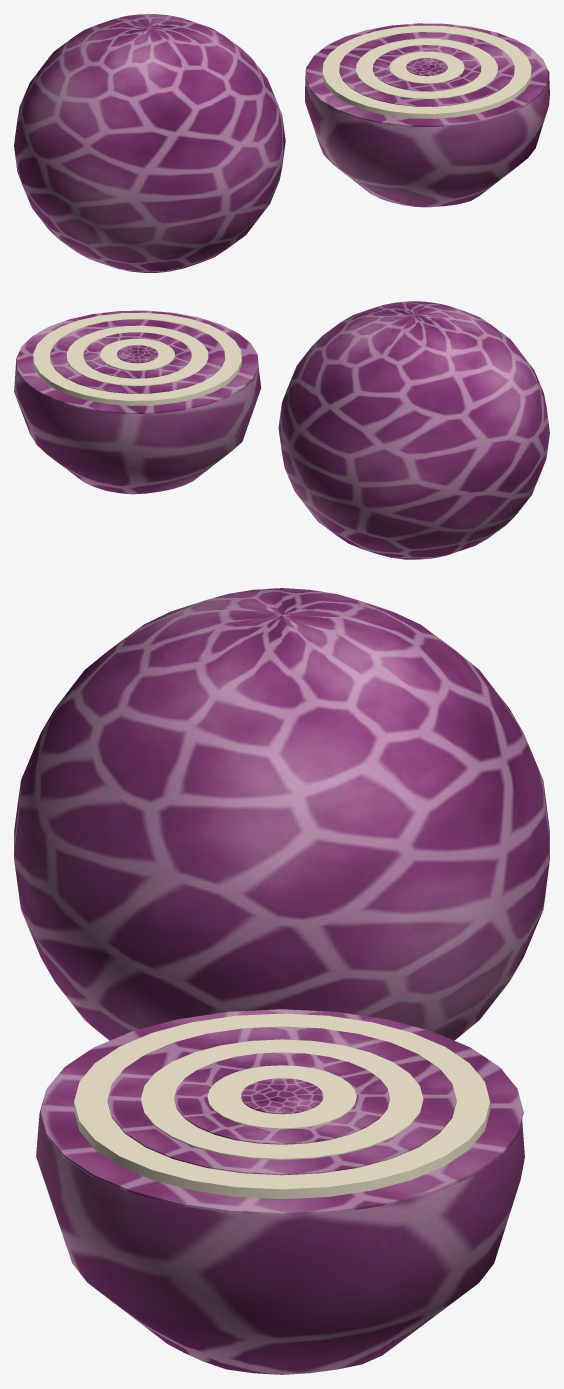
The model's file is veg_cabbage_red_halved.glb.
3 views of the same model, one above another, from view 1: azimuth 30°, elevation 25°; view 2: azimuth 150°, elevation 25°; view 3: azimuth 270°, elevation 25° (orthographic). The views are drawn at different scales.
Parts seen in each view (by area): view 1: veg_cabbage_red_halved; view 2: veg_cabbage_red_halved; view 3: veg_cabbage_red_halved.
Part boxes in pixels (bbox=[...]): veg_cabbage_red_halved: bbox=[14, 14, 549, 272]; veg_cabbage_red_halved: bbox=[14, 301, 549, 559]; veg_cabbage_red_halved: bbox=[14, 588, 549, 1374].
Size of the model in its own units: 0.3622 by 0.1602 by 0.1688.
Materials: 2 (1 with a texture image).
